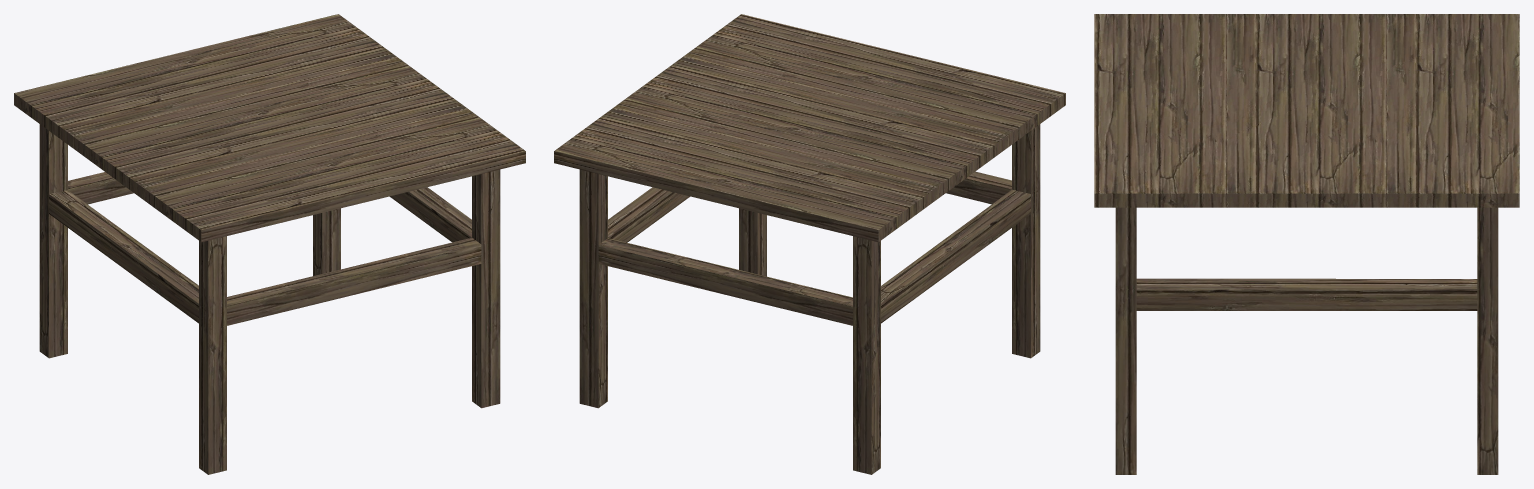
Rendered from Table1.fbx.
3 views of the same model, side by side, from view 1: azimuth 30°, elevation 25°; view 2: azimuth 150°, elevation 25°; view 3: azimuth 270°, elevation 25° (orthographic). The views are drawn at different scales.
Parts seen in each view (by area): view 1: Table1; view 2: Table1; view 3: Table1.
Boxes of the visible parts, x1,y1,x2,y2 form: Table1: (14, 14, 525, 474); Table1: (554, 14, 1065, 474); Table1: (1094, 14, 1519, 474).
Bounding box in the file's own units: 1.33 × 1 × 1.33.
1 material, 1 textured.
